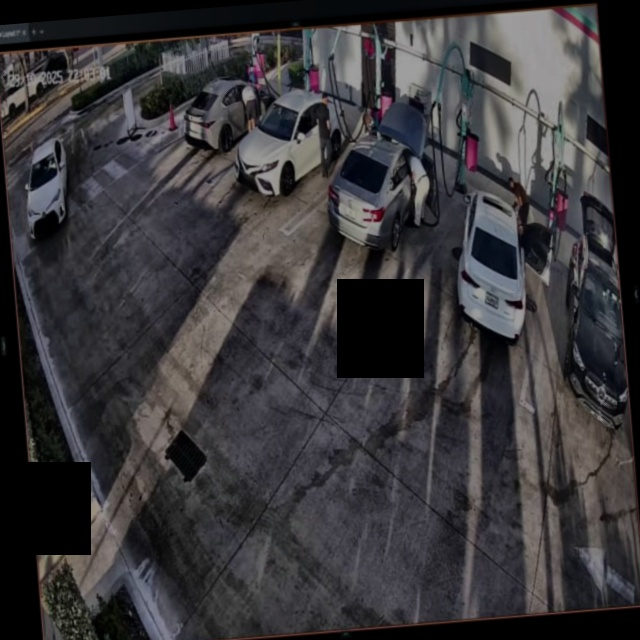Car: (322, 102, 430, 254), (232, 86, 350, 195), (451, 187, 529, 346), (181, 71, 280, 152)
